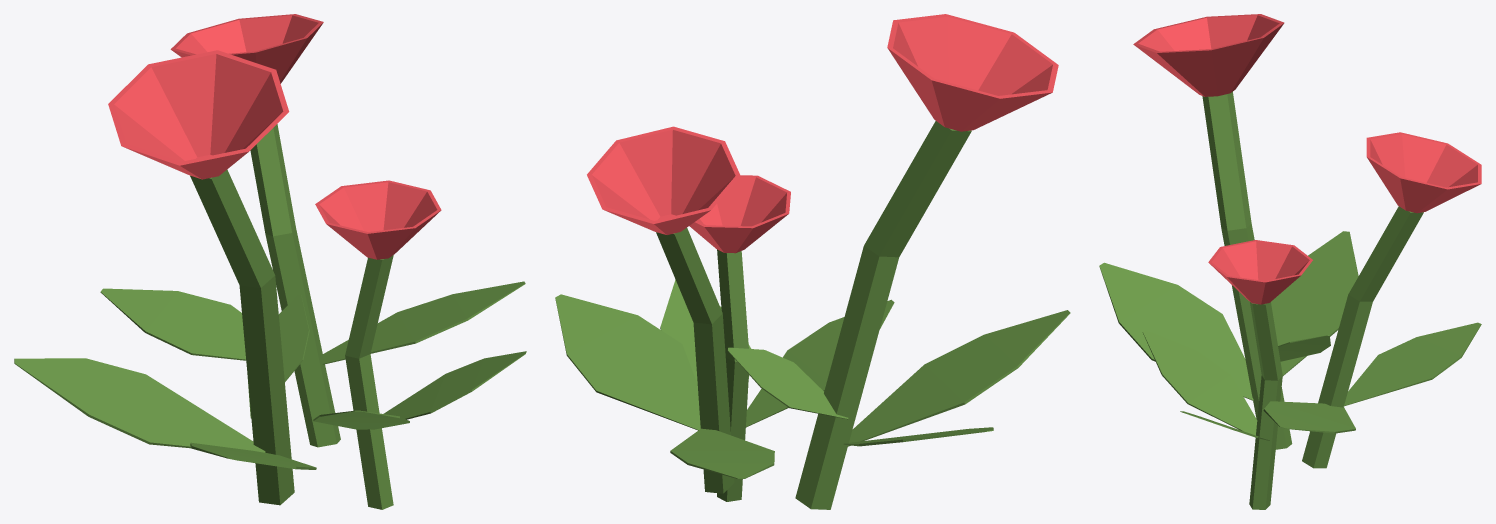
The model's file is Flower_01.fbx.
The picture shows the model from 3 angles, left to right: view 1: azimuth 30°, elevation 25°; view 2: azimuth 150°, elevation 25°; view 3: azimuth 270°, elevation 25°; orthographic projection. The views are drawn at different scales.
Visible parts, largest first — view 1: Flower_01; view 2: Flower_01; view 3: Flower_01.
Part boxes in pixels (left/top/right/bottom): Flower_01: left=14, top=14, right=526, bottom=509; Flower_01: left=555, top=14, right=1070, bottom=509; Flower_01: left=1099, top=14, right=1481, bottom=509.
Bounding box in the file's own units: 119 × 118 × 101.
